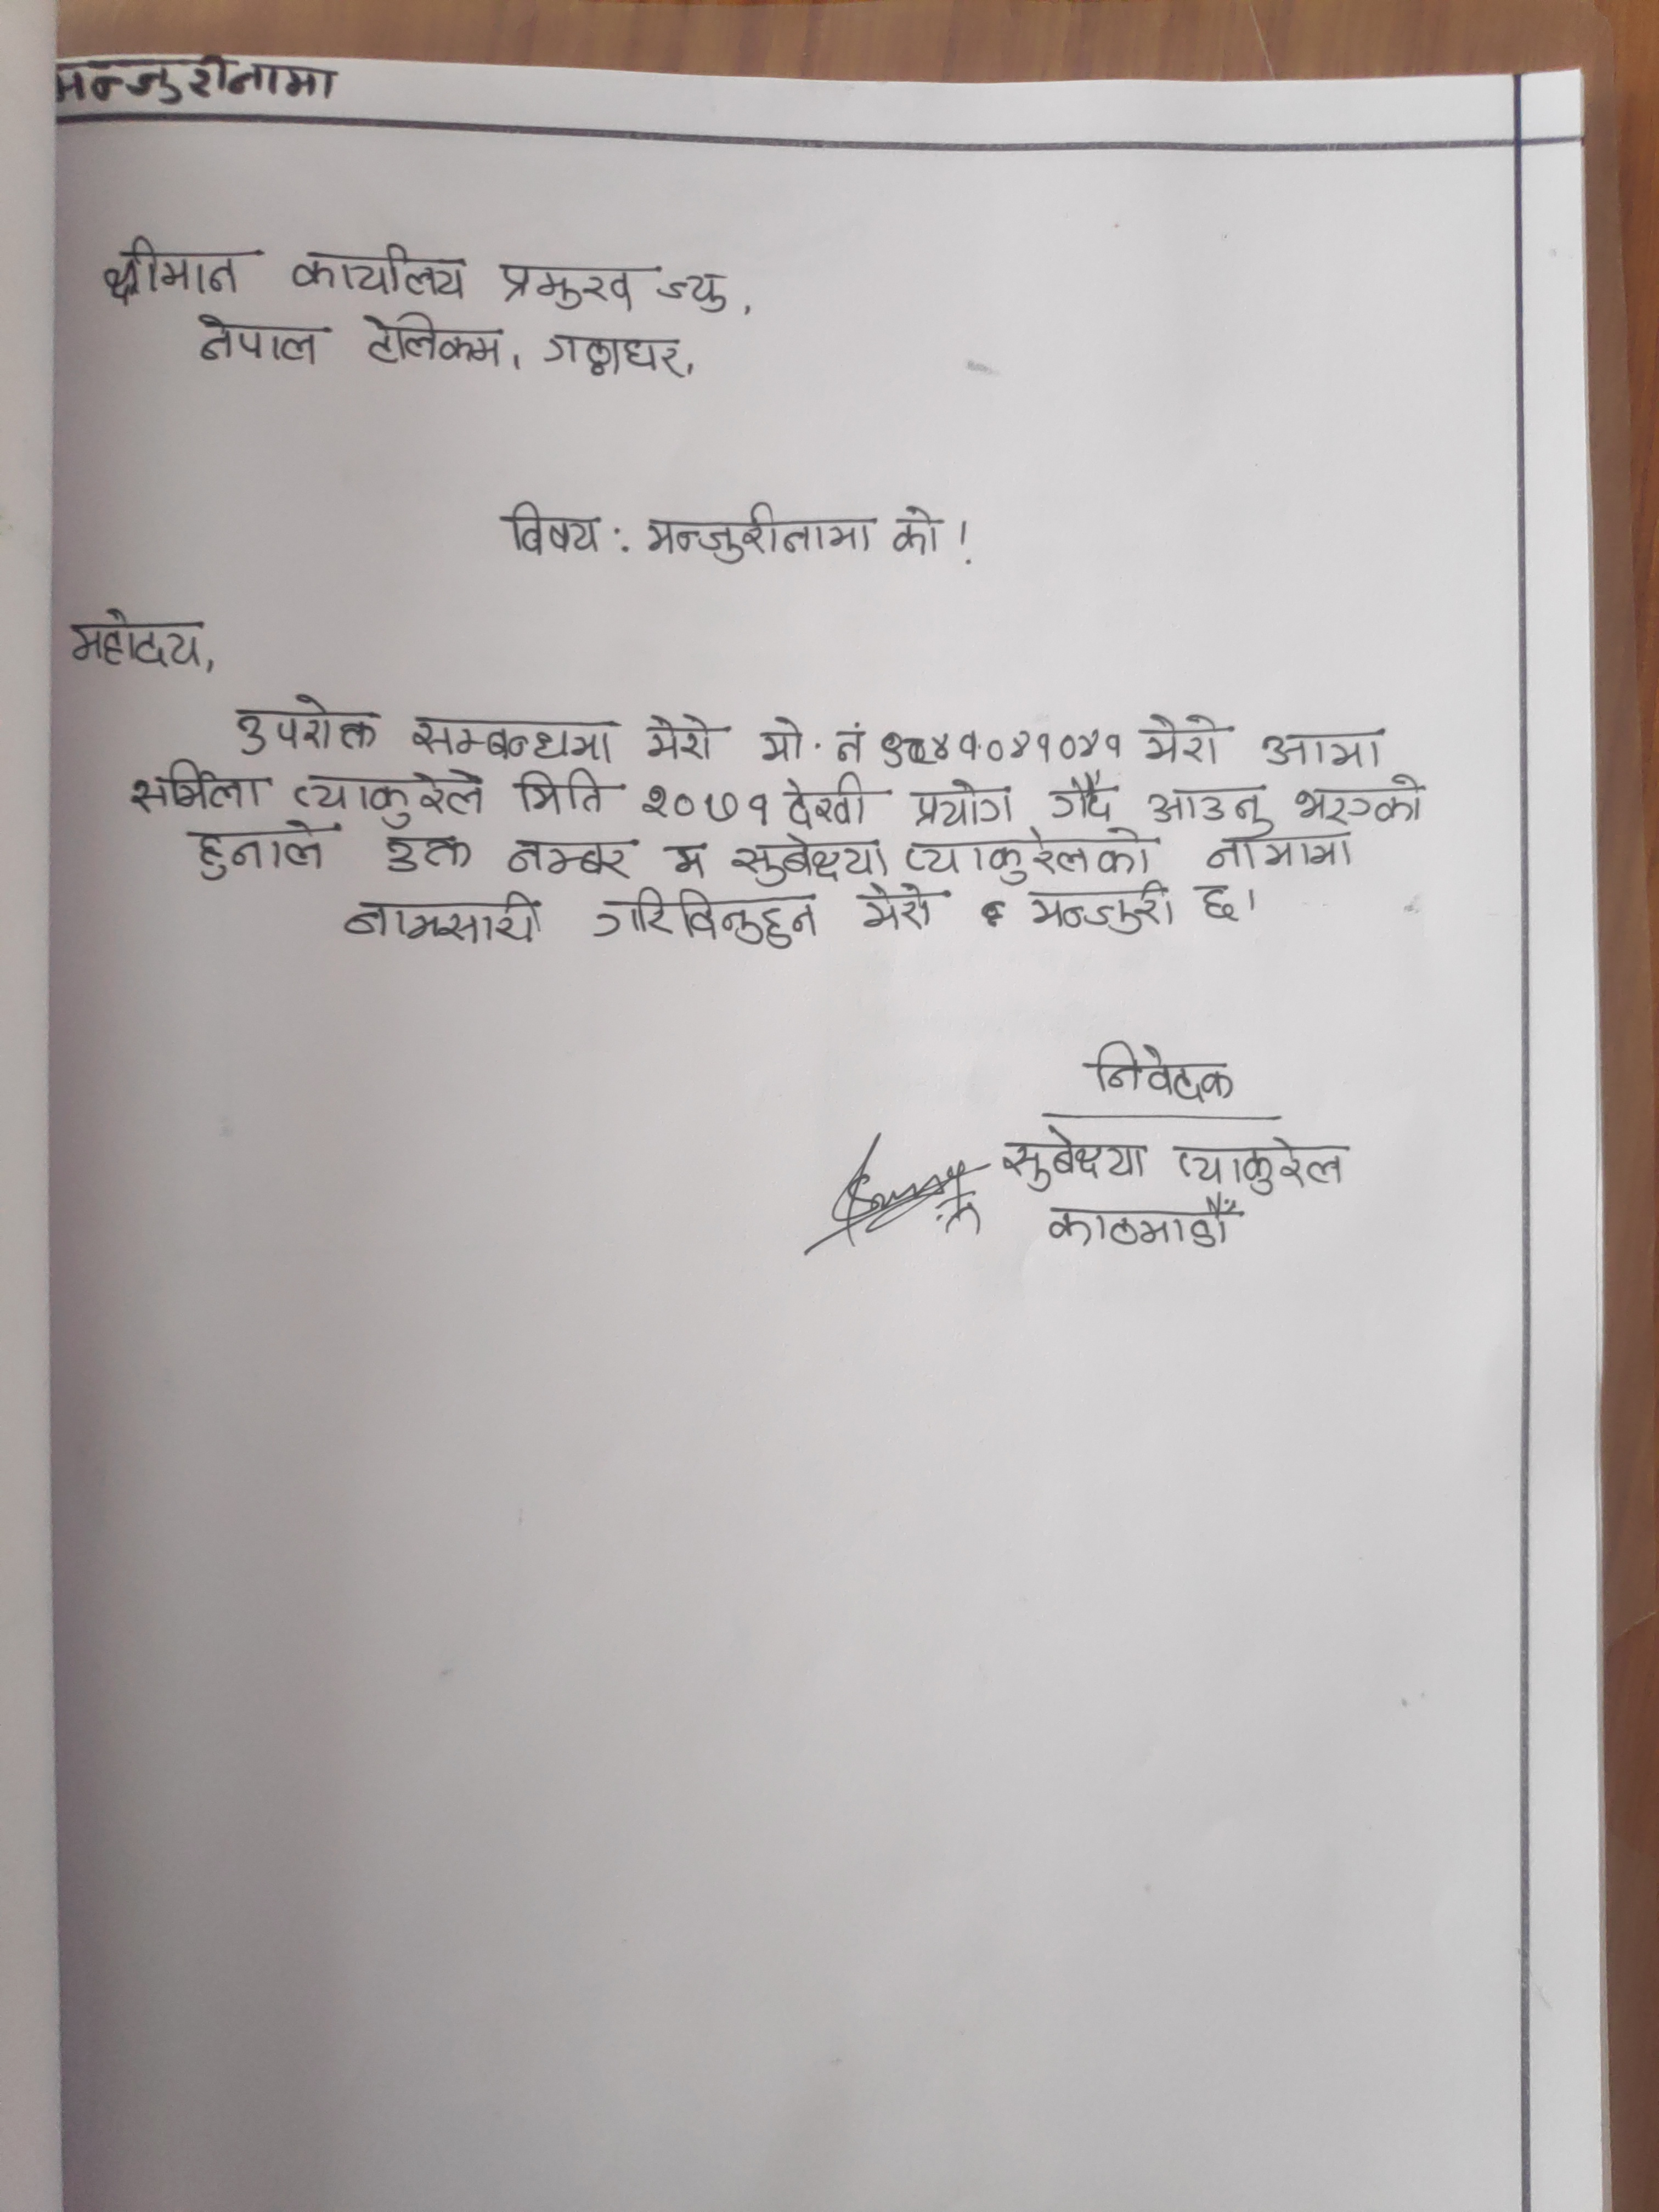text: (59, 56, 342, 111), (643, 498, 878, 564), (589, 885, 816, 949), (904, 827, 1157, 885), (288, 763, 490, 831), (342, 888, 545, 949), (96, 232, 256, 307), (1046, 1193, 1243, 1254), (284, 242, 471, 303), (1084, 1036, 1239, 1109), (1171, 1136, 1352, 1197), (408, 711, 617, 763), (362, 305, 509, 374), (228, 693, 382, 759), (875, 728, 1126, 768), (186, 817, 331, 885), (997, 1125, 1148, 1190), (491, 254, 647, 317), (66, 604, 206, 672), (124, 754, 270, 819), (728, 831, 892, 887), (1021, 885, 1180, 939), (1295, 768, 1431, 831), (540, 326, 687, 381), (190, 312, 326, 369), (1143, 780, 1281, 836), (504, 833, 647, 883), (638, 777, 772, 827), (511, 763, 617, 822), (1204, 833, 1361, 873), (504, 502, 606, 563), (908, 775, 1016, 833), (753, 716, 871, 766), (784, 768, 870, 834), (1258, 726, 1385, 770), (1141, 709, 1229, 768), (378, 831, 476, 878), (657, 261, 730, 320), (856, 880, 936, 932), (641, 711, 716, 766), (1046, 773, 1114, 824), (889, 502, 943, 559), (659, 838, 709, 880), (1192, 880, 1241, 921)
